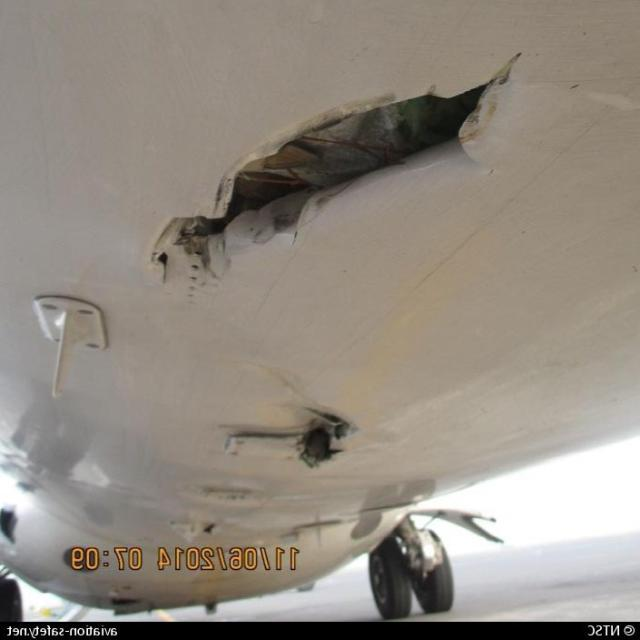crack: (145, 53, 525, 305)
